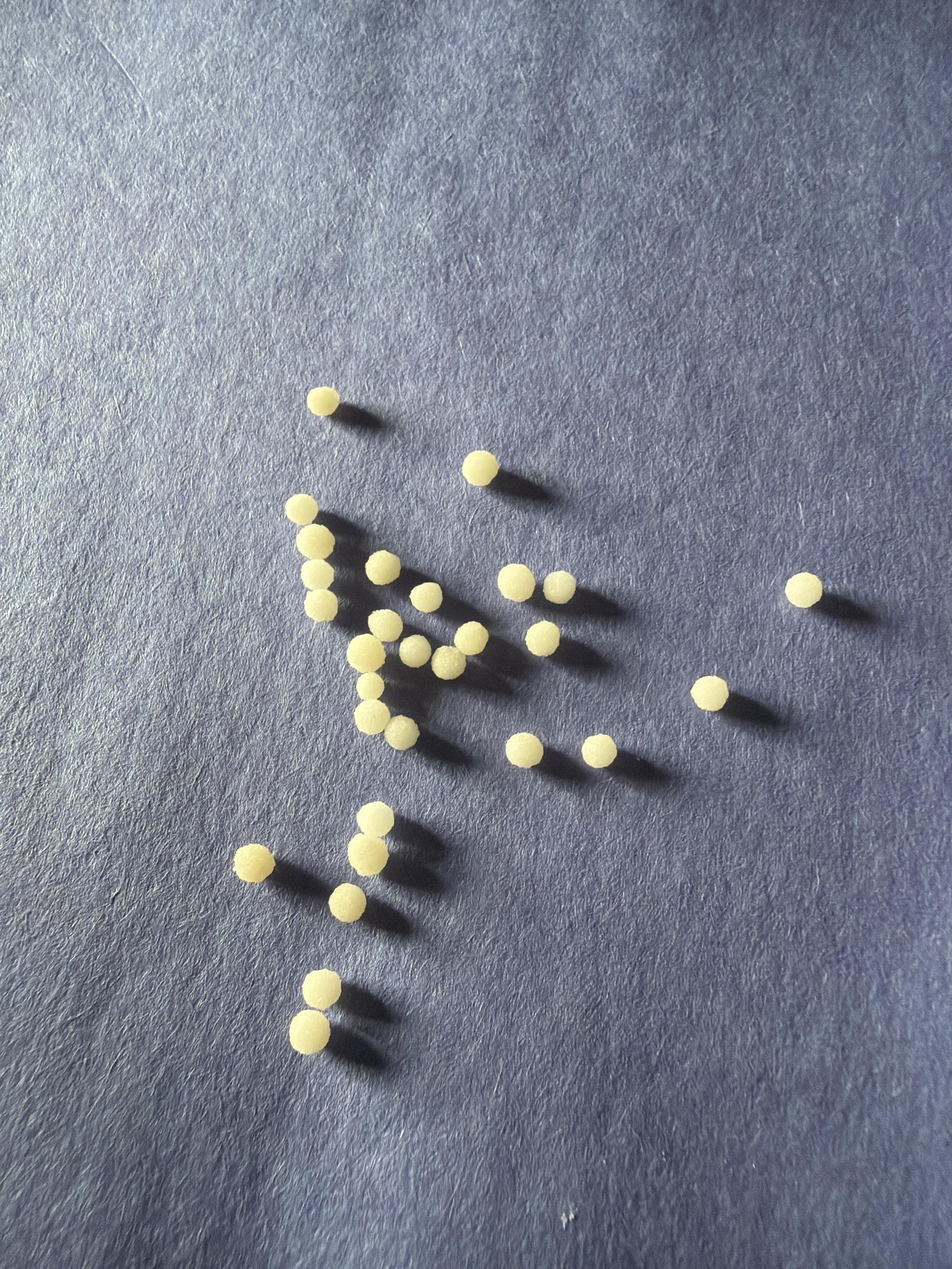pill: (289, 1009, 330, 1054), (348, 833, 388, 876), (233, 843, 275, 883), (302, 968, 341, 1009), (328, 883, 366, 923), (347, 634, 385, 673), (497, 563, 535, 602), (690, 675, 729, 712), (355, 801, 394, 837), (461, 450, 499, 486), (785, 572, 823, 608), (296, 524, 335, 559), (505, 733, 543, 768), (384, 715, 420, 751), (354, 699, 390, 735), (525, 620, 560, 657), (365, 550, 401, 585), (581, 734, 617, 768), (454, 621, 488, 656), (368, 609, 403, 643), (431, 646, 465, 680), (398, 634, 431, 668), (304, 589, 338, 622), (543, 572, 576, 604), (285, 494, 318, 526), (409, 582, 443, 613), (300, 559, 334, 589), (306, 386, 340, 416), (356, 672, 384, 701)
